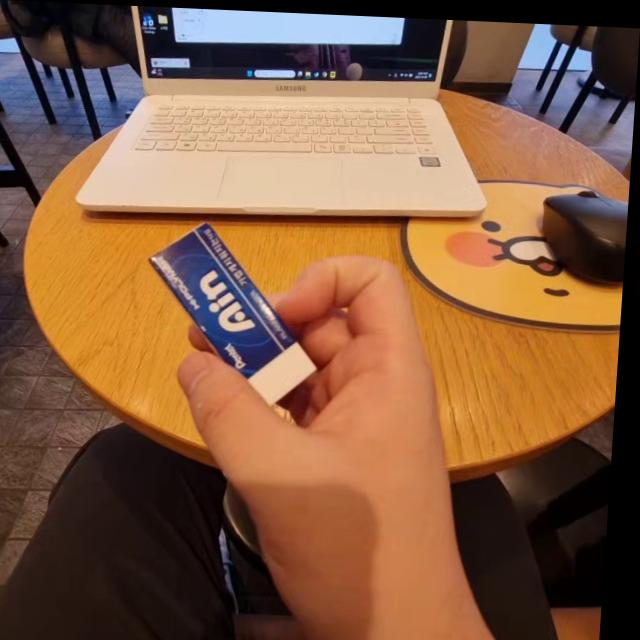grab_eraser: (118, 222, 470, 594)
mouse: (536, 185, 631, 284)
